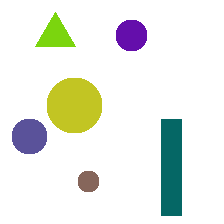circle: (47, 78, 101, 132), (12, 119, 46, 153), (116, 20, 146, 50), (78, 171, 98, 191)
rectangle: (161, 119, 181, 215)
triangle: (35, 12, 75, 46)
